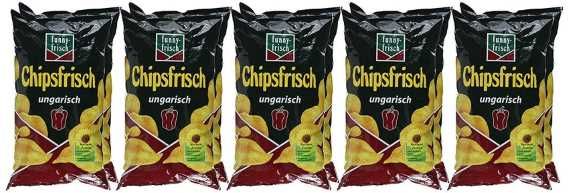chipsfrisch: (2, 9, 112, 191), (114, 9, 222, 193), (446, 10, 553, 193), (334, 10, 441, 192), (227, 10, 332, 193)
